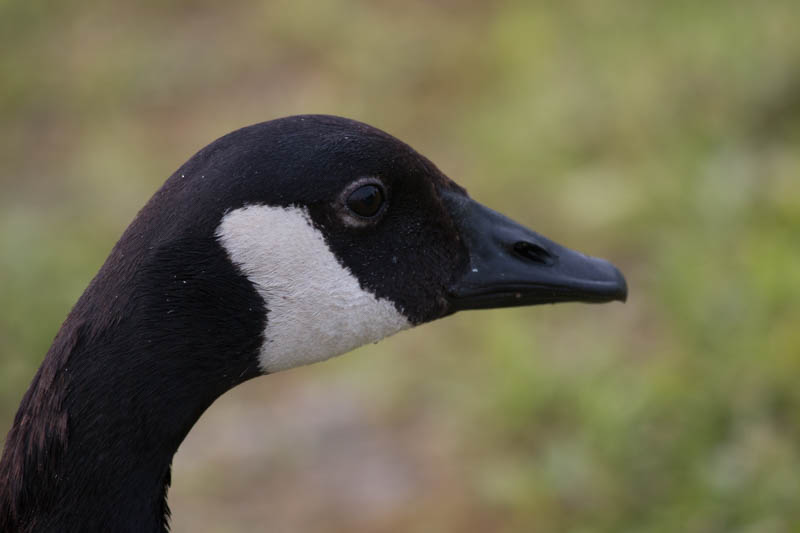goose-head: (153, 115, 629, 376)
